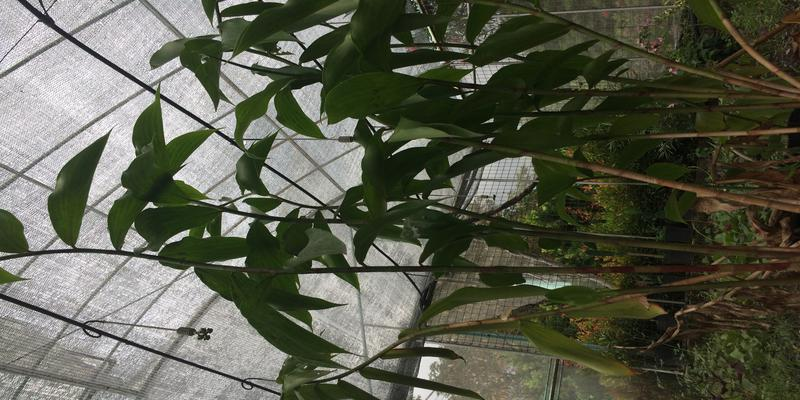Insulin: (131, 10, 753, 286)
